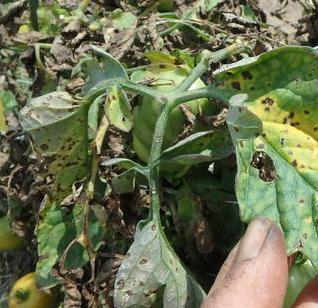Tomato Septoria leaf spot: (216, 41, 318, 295), (22, 79, 102, 199), (116, 220, 195, 308)
